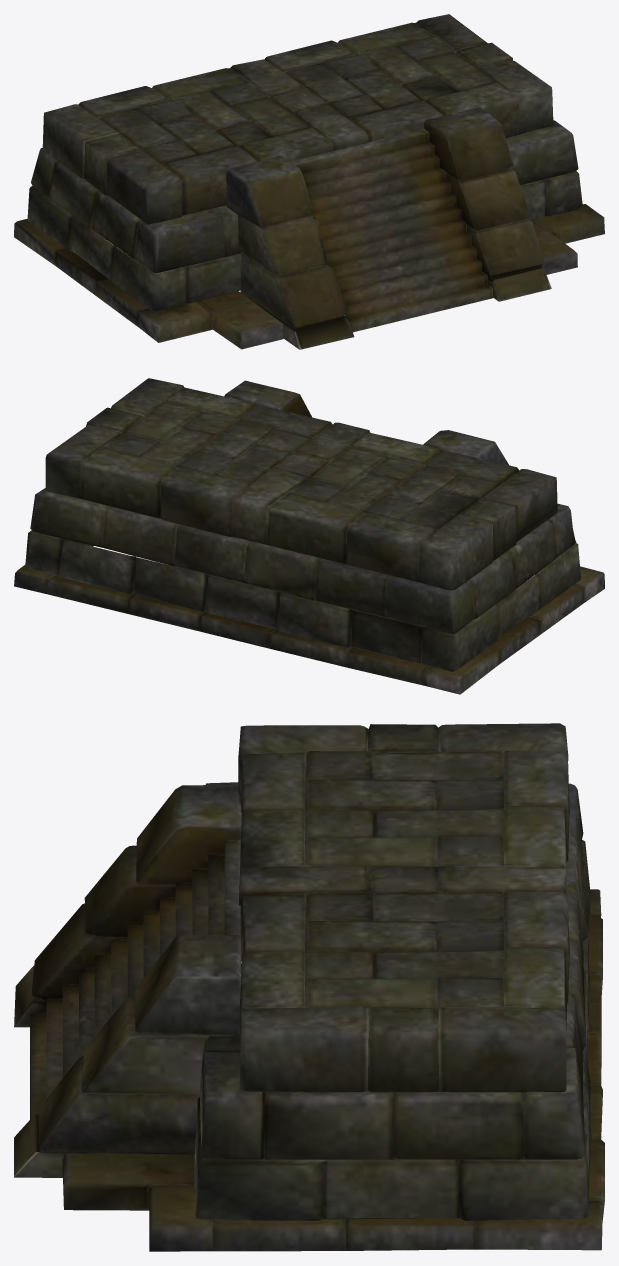
Rendered from stone-foundation.lod1.glb.
3 renders of one model, top to bottom at view 1: azimuth 30°, elevation 25°; view 2: azimuth 150°, elevation 25°; view 3: azimuth 270°, elevation 25°, orthographic. The views are drawn at different scales.
Visible parts, largest first — view 1: Object_2; view 2: Object_2; view 3: Object_2.
Boxes of the visible parts, <box> form: Object_2: <box>14,14,604,349</box>; Object_2: <box>14,378,604,694</box>; Object_2: <box>14,723,604,1251</box>.
Bounding box in the file's own units: 8.96 × 2.52 × 6.58.
1 material, 1 textured.
